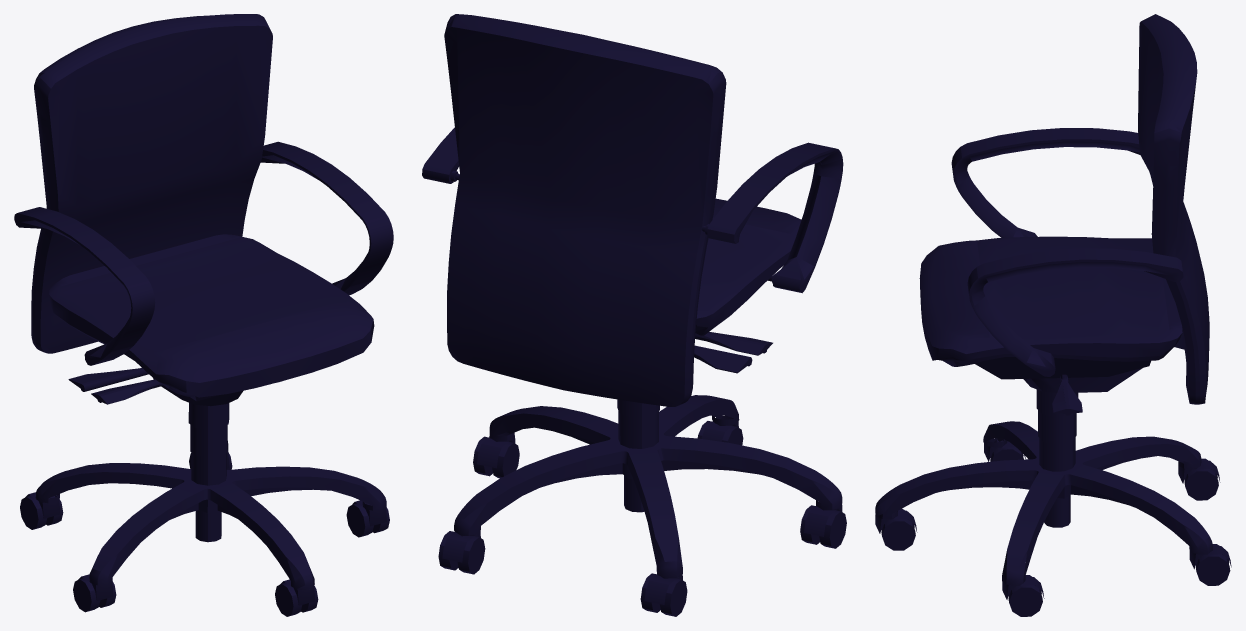
File: ComputerChair.fbx
The picture shows the model from 3 angles, left to right: view 1: azimuth 30°, elevation 25°; view 2: azimuth 150°, elevation 25°; view 3: azimuth 270°, elevation 25°; orthographic projection. The views are drawn at different scales.
Visible parts, largest first — view 1: computer_chair; view 2: computer_chair; view 3: computer_chair.
Part boxes in pixels (x1,y1,x2,y2): computer_chair: (14, 14, 393, 616); computer_chair: (422, 14, 846, 616); computer_chair: (875, 14, 1231, 616).
Bounding box in the file's own units: 62.9 × 94.07 × 62.99.
